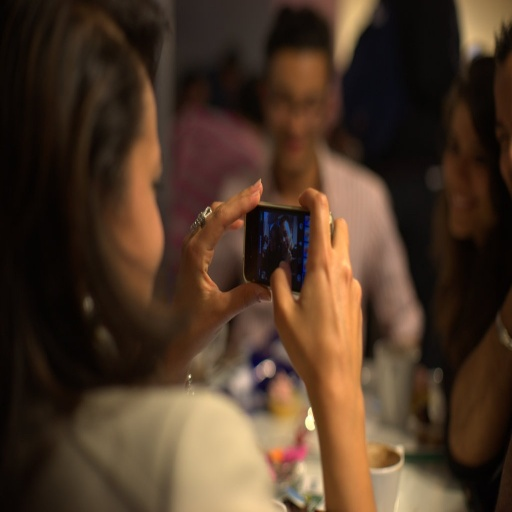hand: (268, 196, 368, 463), (166, 176, 273, 370)
